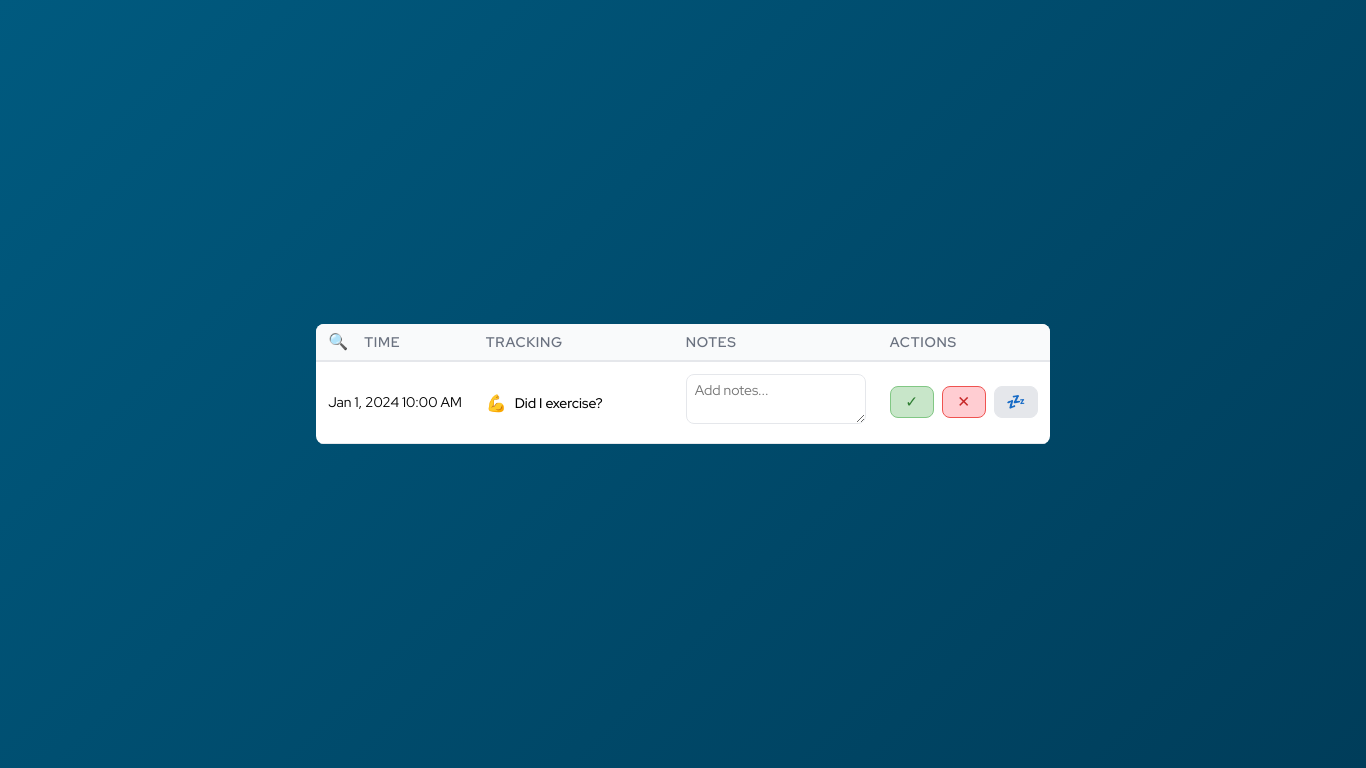
Test: RemindersList › should show snooze menu when Snooze is clicked
The image size is (1366, 768).
Click the Snooze action button directly (first one is from table view)
Click the button named "Snooze reminder".
click(1016, 402)  # box top-left (994, 386), bottom-right (1038, 418)
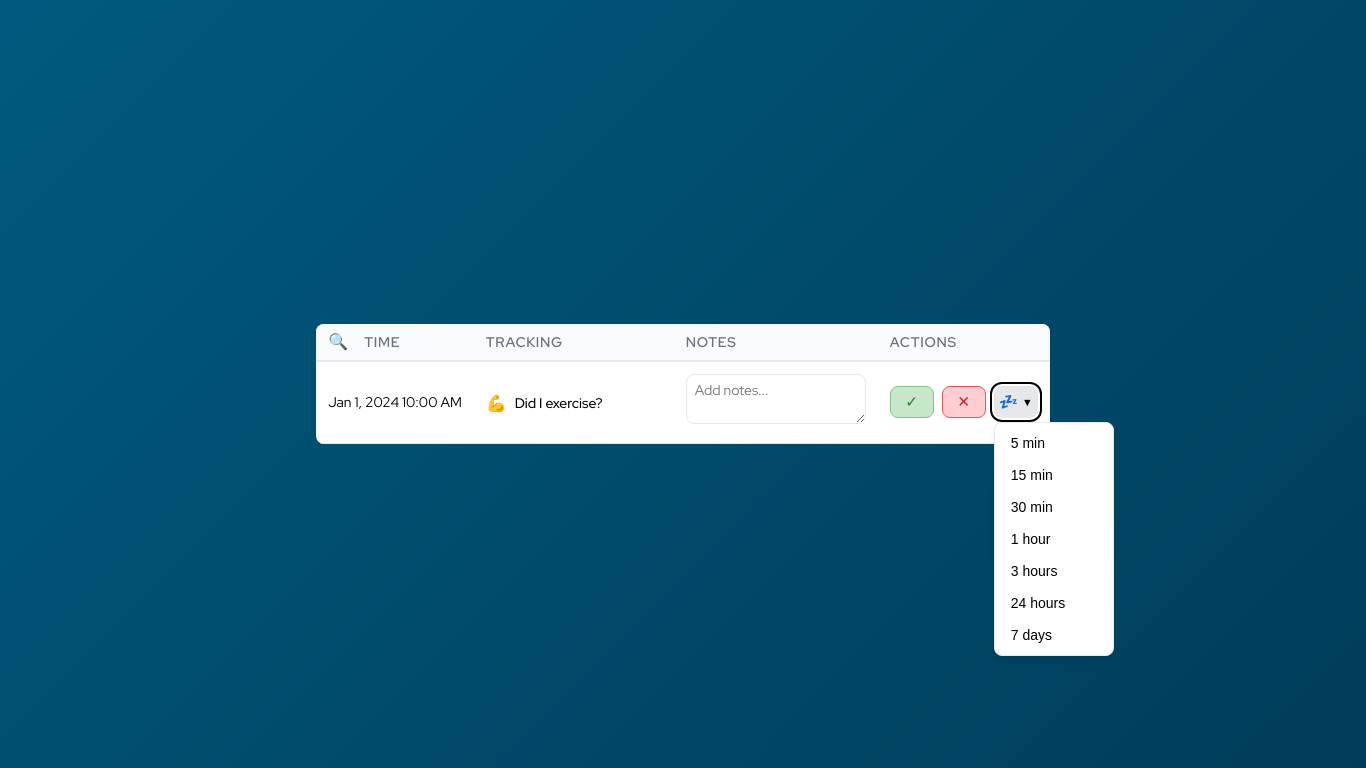
Check: the button "15 min" is shown, box top-left (999, 460), bottom-right (1109, 492)
